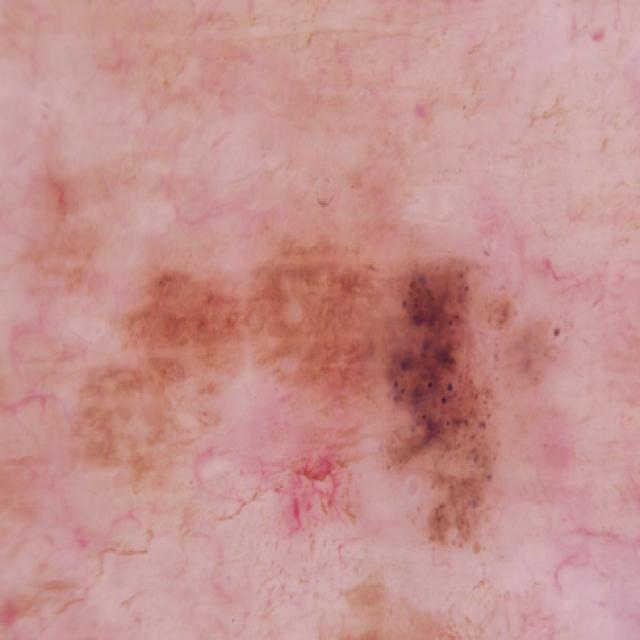Carcinoma: (101, 223, 582, 575)
